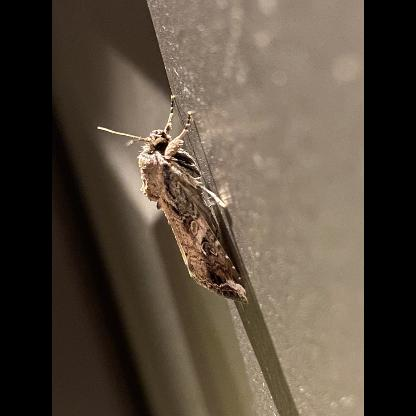Fall Armyworm Moth: (94, 92, 252, 308)
